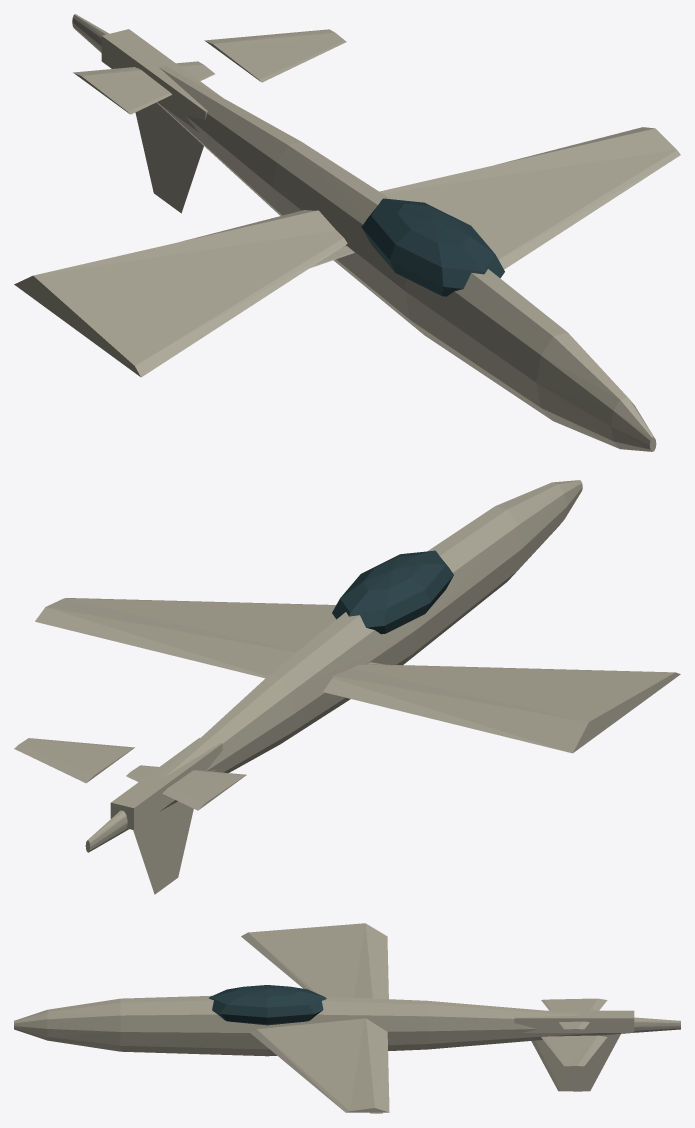
The model's file is mig29.glb.
3 renders of one model, top to bottom at view 1: azimuth 30°, elevation 25°; view 2: azimuth 150°, elevation 25°; view 3: azimuth 270°, elevation 25°, orthographic. The views are drawn at different scales.
Parts seen in each view (by area): view 1: Fuselage, Wing_L, Wing_R, Cockpit, Rudder, Elevator_R, TailBoom, Elevator_L; view 2: Fuselage, Wing_L, Wing_R, Cockpit, Rudder, TailBoom, Elevator_R, Elevator_L; view 3: Fuselage, Wing_R, Wing_L, Cockpit, TailBoom, Rudder, Elevator_R, Elevator_L.
Boxes of the visible parts, x1=… form: Fuselage: x1=72, y1=14, x2=656, y2=451; Wing_L: x1=14, y1=210, x2=347, y2=377; Wing_R: x1=379, y1=127, x2=680, y2=269; Cockpit: x1=361, y1=198, x2=504, y2=296; Rudder: x1=135, y1=102, x2=203, y2=213; Elevator_R: x1=204, y1=29, x2=346, y2=82; TailBoom: x1=101, y1=29, x2=221, y2=132; Elevator_L: x1=73, y1=61, x2=214, y2=114; Fuselage: x1=85, y1=480, x2=582, y2=852; Wing_L: x1=323, y1=664, x2=680, y2=753; Wing_R: x1=35, y1=598, x2=336, y2=678; Cockpit: x1=332, y1=550, x2=453, y2=634; Rudder: x1=133, y1=801, x2=193, y2=894; TailBoom: x1=110, y1=738, x2=222, y2=829; Elevator_R: x1=14, y1=738, x2=134, y2=783; Elevator_L: x1=126, y1=765, x2=246, y2=810; Fuselage: x1=14, y1=995, x2=680, y2=1056; Wing_R: x1=250, y1=1018, x2=389, y2=1112; Wing_L: x1=241, y1=923, x2=388, y2=999; Cockpit: x1=209, y1=985, x2=326, y2=1025; TailBoom: x1=514, y1=1010, x2=634, y2=1032; Rudder: x1=531, y1=1034, x2=620, y2=1091; Elevator_R: x1=541, y1=1035, x2=607, y2=1066; Elevator_L: x1=541, y1=998, x2=607, y2=1029.
Size of the model in its own units: 10.91 by 2.93 by 17.32.
